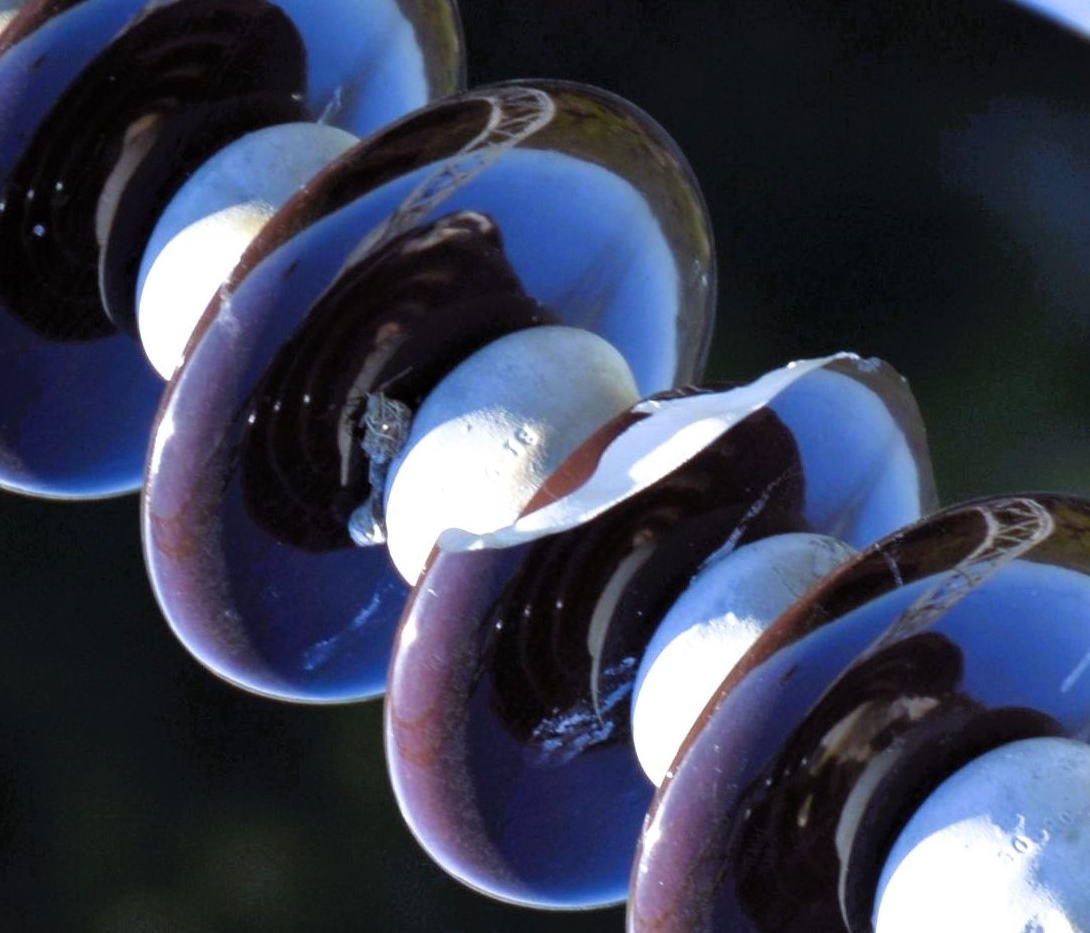insulator breakage: (380, 336, 933, 914)
